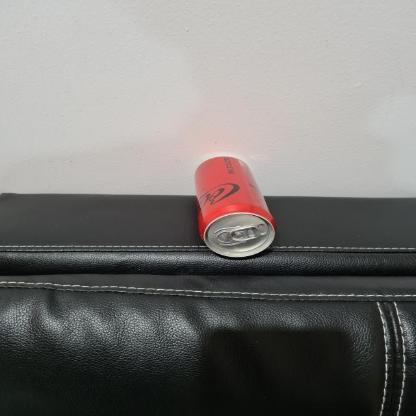Can: (188, 154, 280, 260)
